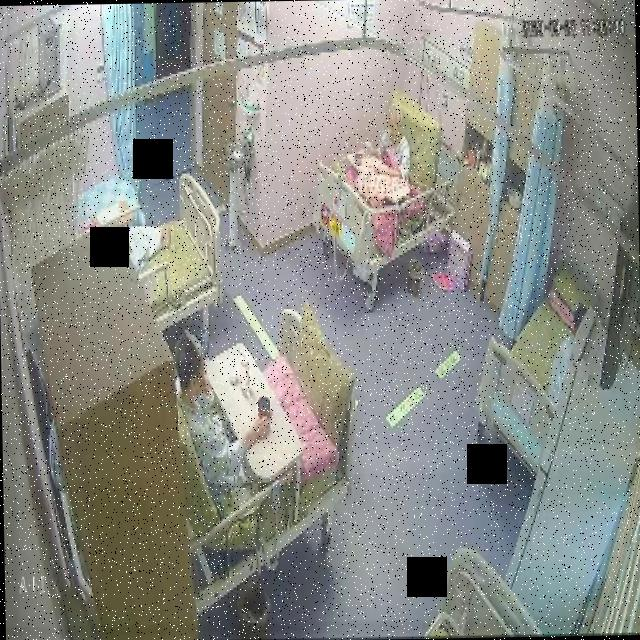bed: (174, 309, 360, 577), (300, 112, 456, 304), (472, 274, 594, 478), (123, 170, 225, 332)
patient: (172, 319, 275, 488), (376, 105, 411, 180)
sit: (172, 320, 274, 490), (376, 104, 411, 178)
